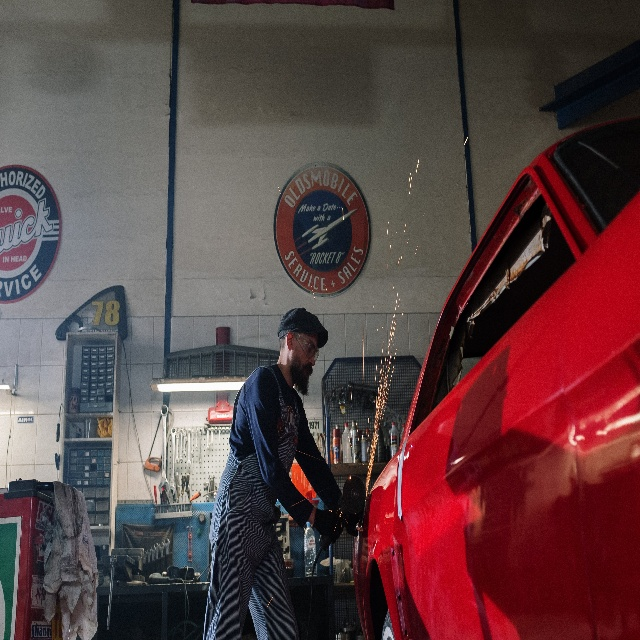Guantes: (314, 505, 344, 544)
